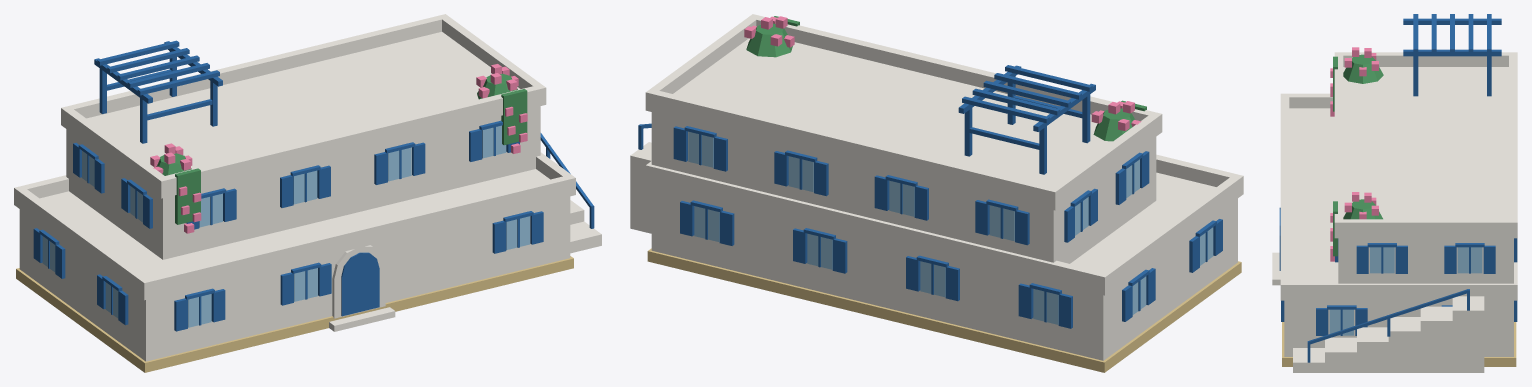
Rendered from house-2x1-2f-aegean-a.glb.
3 views of the same model, side by side, from view 1: azimuth 30°, elevation 25°; view 2: azimuth 150°, elevation 25°; view 3: azimuth 270°, elevation 25° (orthographic). The views are drawn at different scales.
Parts seen in each view (by area): view 1: house-2x1-2f-aegean-a; view 2: house-2x1-2f-aegean-a; view 3: house-2x1-2f-aegean-a.
Boxes of the visible parts, bbox=[...] form: house-2x1-2f-aegean-a: bbox=[14, 14, 601, 372]; house-2x1-2f-aegean-a: bbox=[630, 14, 1243, 372]; house-2x1-2f-aegean-a: bbox=[1272, 14, 1517, 372].
Size of the model in its own units: 1.99 by 0.866 by 1.
1 material, 1 textured.
